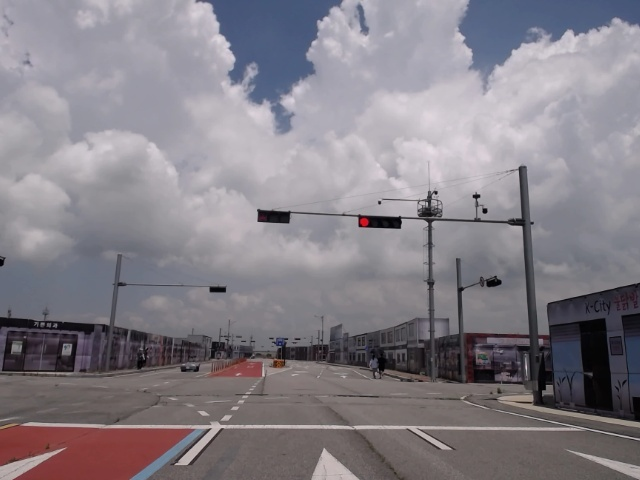red_4: (359, 217, 401, 228)
